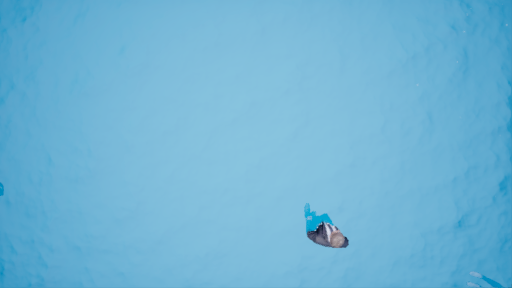person: (297, 203, 355, 250)
